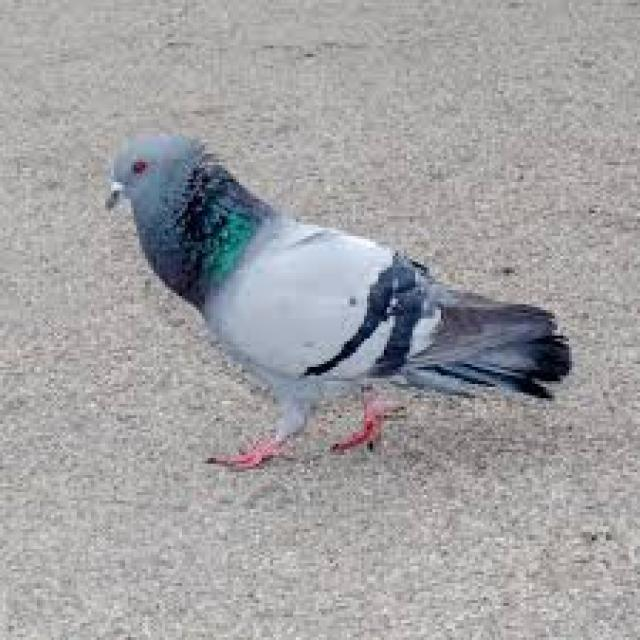Pigeon: (103, 122, 580, 476)
